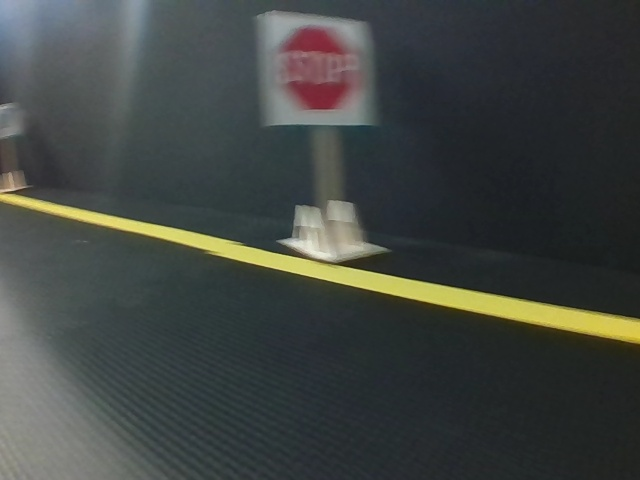stop: (261, 13, 371, 128), (1, 103, 17, 136)
